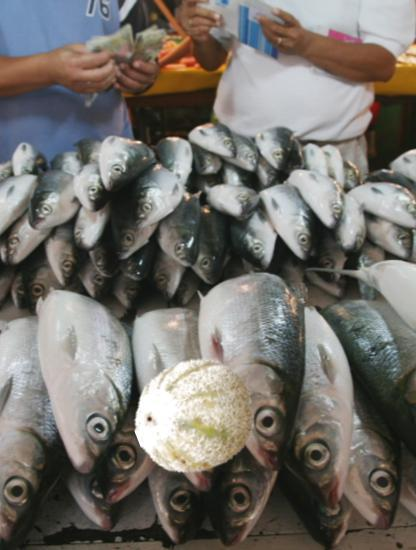Cantaloupe: (133, 356, 254, 477)
